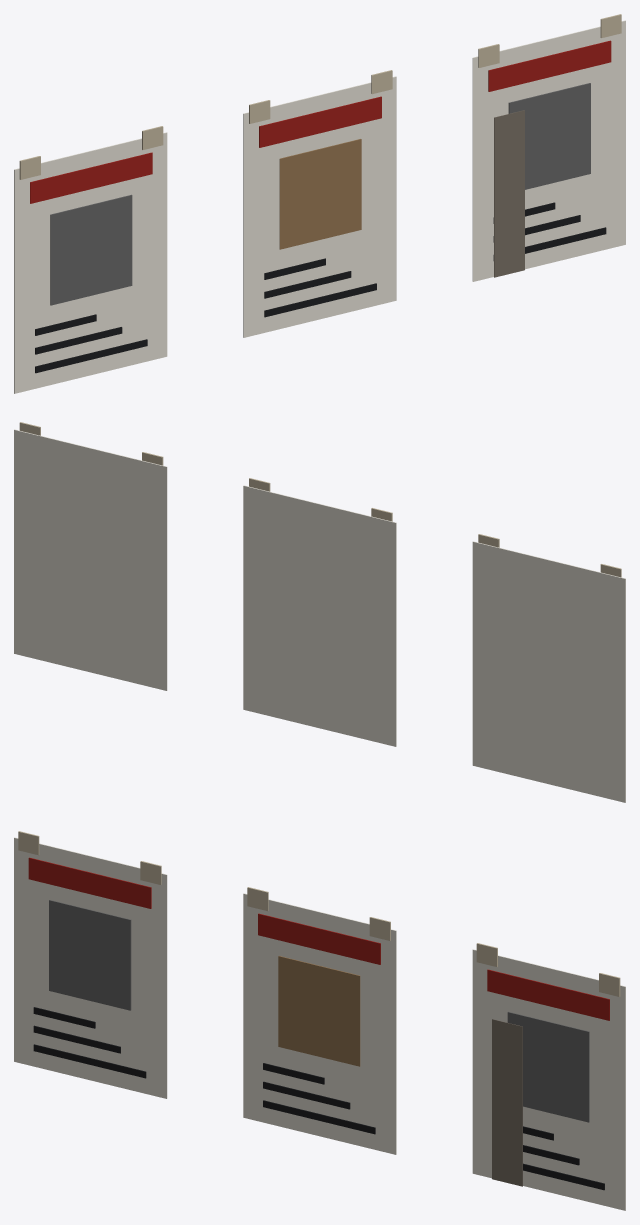
Rendered from posters_missing.glb.
3 views of the same model, one above another, from view 1: azimuth 30°, elevation 25°; view 2: azimuth 150°, elevation 25°; view 3: azimuth 330°, elevation 25° (orthographic).
Parts seen in each view (by area): view 1: posters_missing; view 2: posters_missing; view 3: posters_missing.
Boxes of the visible parts, left/top/right/bottom form: posters_missing: left=14, top=14, right=625, bottom=393; posters_missing: left=14, top=422, right=625, bottom=802; posters_missing: left=14, top=831, right=625, bottom=1210.
Bounding box in the file's own units: 1.2 × 0.435 × 0.005.
Materials: 1 (1 with a texture image).
